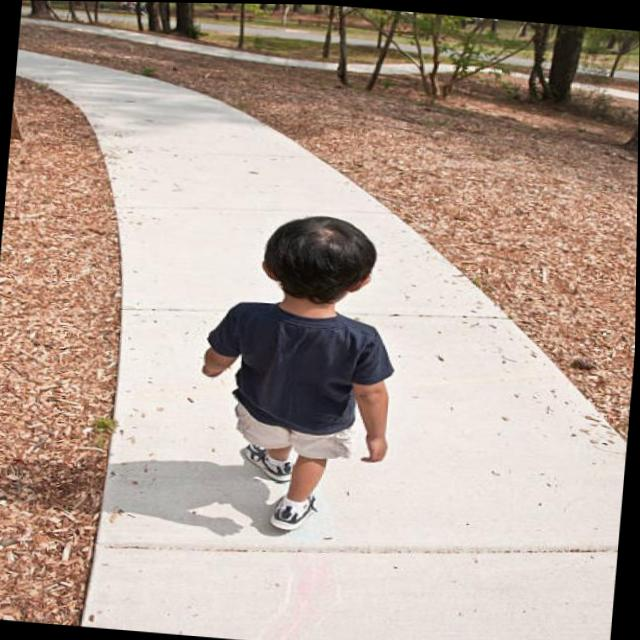no helmet: (259, 208, 381, 316)
